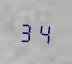four: (35, 19, 50, 44)
three: (19, 18, 34, 43)
